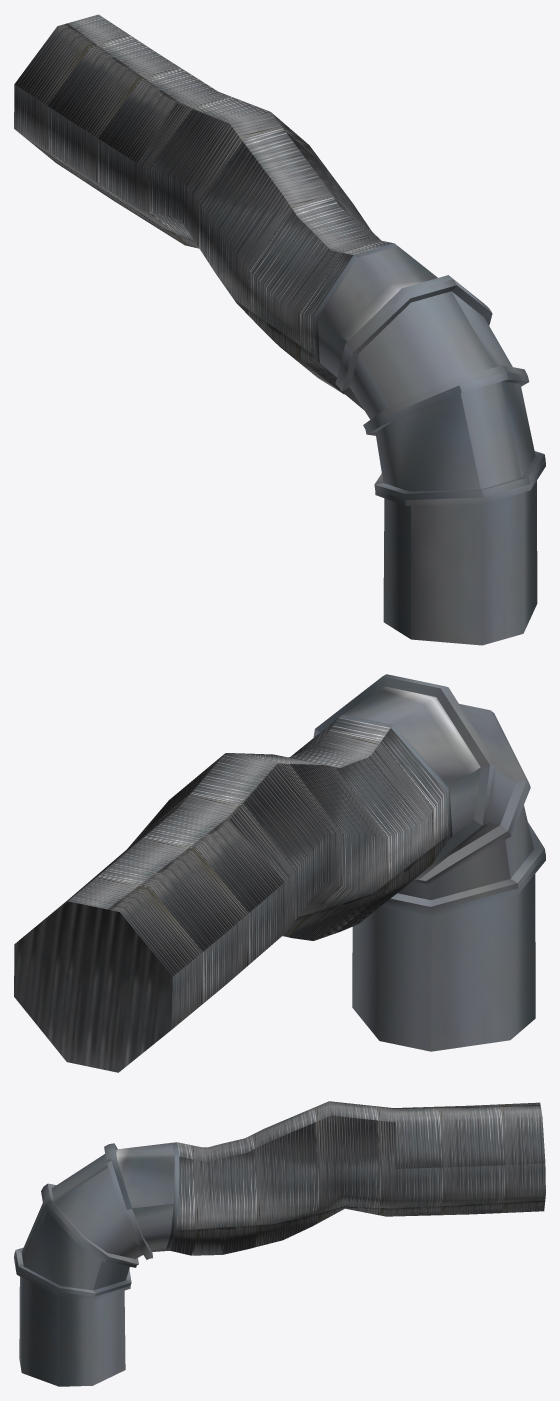
File: yk_katto_lvi_putki1.fbx
3 views of the same model, one above another, from view 1: azimuth 30°, elevation 25°; view 2: azimuth 150°, elevation 25°; view 3: azimuth 270°, elevation 25° (orthographic). The views are drawn at different scales.
Parts seen in each view (by area): view 1: lvi-putket.007; view 2: lvi-putket.007; view 3: lvi-putket.007.
Part boxes in pixels (x1=…): lvi-putket.007: x1=14, y1=14, x2=545, y2=645; lvi-putket.007: x1=14, y1=674, x2=545, y2=1072; lvi-putket.007: x1=14, y1=1101, x2=545, y2=1386.
Bounding box in the file's own units: 72.53 × 139 × 270.
